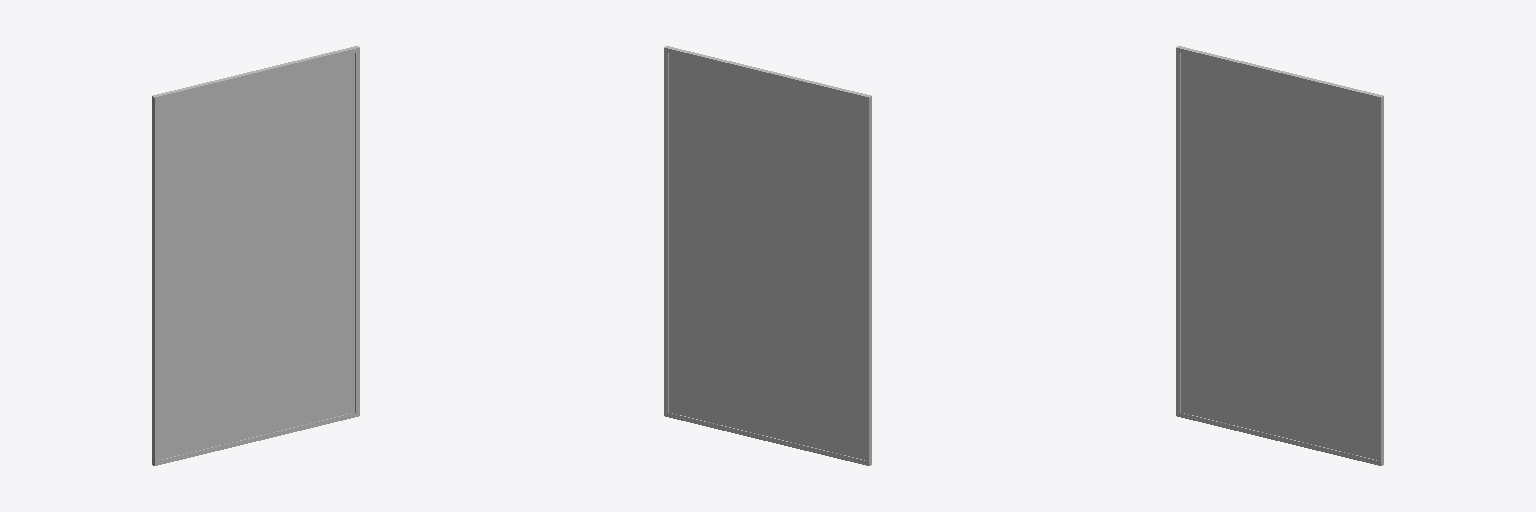
Rendered from ff_floor.obj.
3 renders of one model, left to right at view 1: azimuth 30°, elevation 25°; view 2: azimuth 150°, elevation 25°; view 3: azimuth 330°, elevation 25°, orthographic.
Parts seen in each view (by area): view 1: ff_floor_herringbone_parquet; view 2: ff_floor_herringbone_parquet; view 3: ff_floor_herringbone_parquet.
Boxes of the visible parts, <box> form: ff_floor_herringbone_parquet: <box>152,46,359,465</box>; ff_floor_herringbone_parquet: <box>664,46,871,465</box>; ff_floor_herringbone_parquet: <box>1176,46,1383,465</box>.
Size of the model in its own units: 7 by 12 by 0.15.